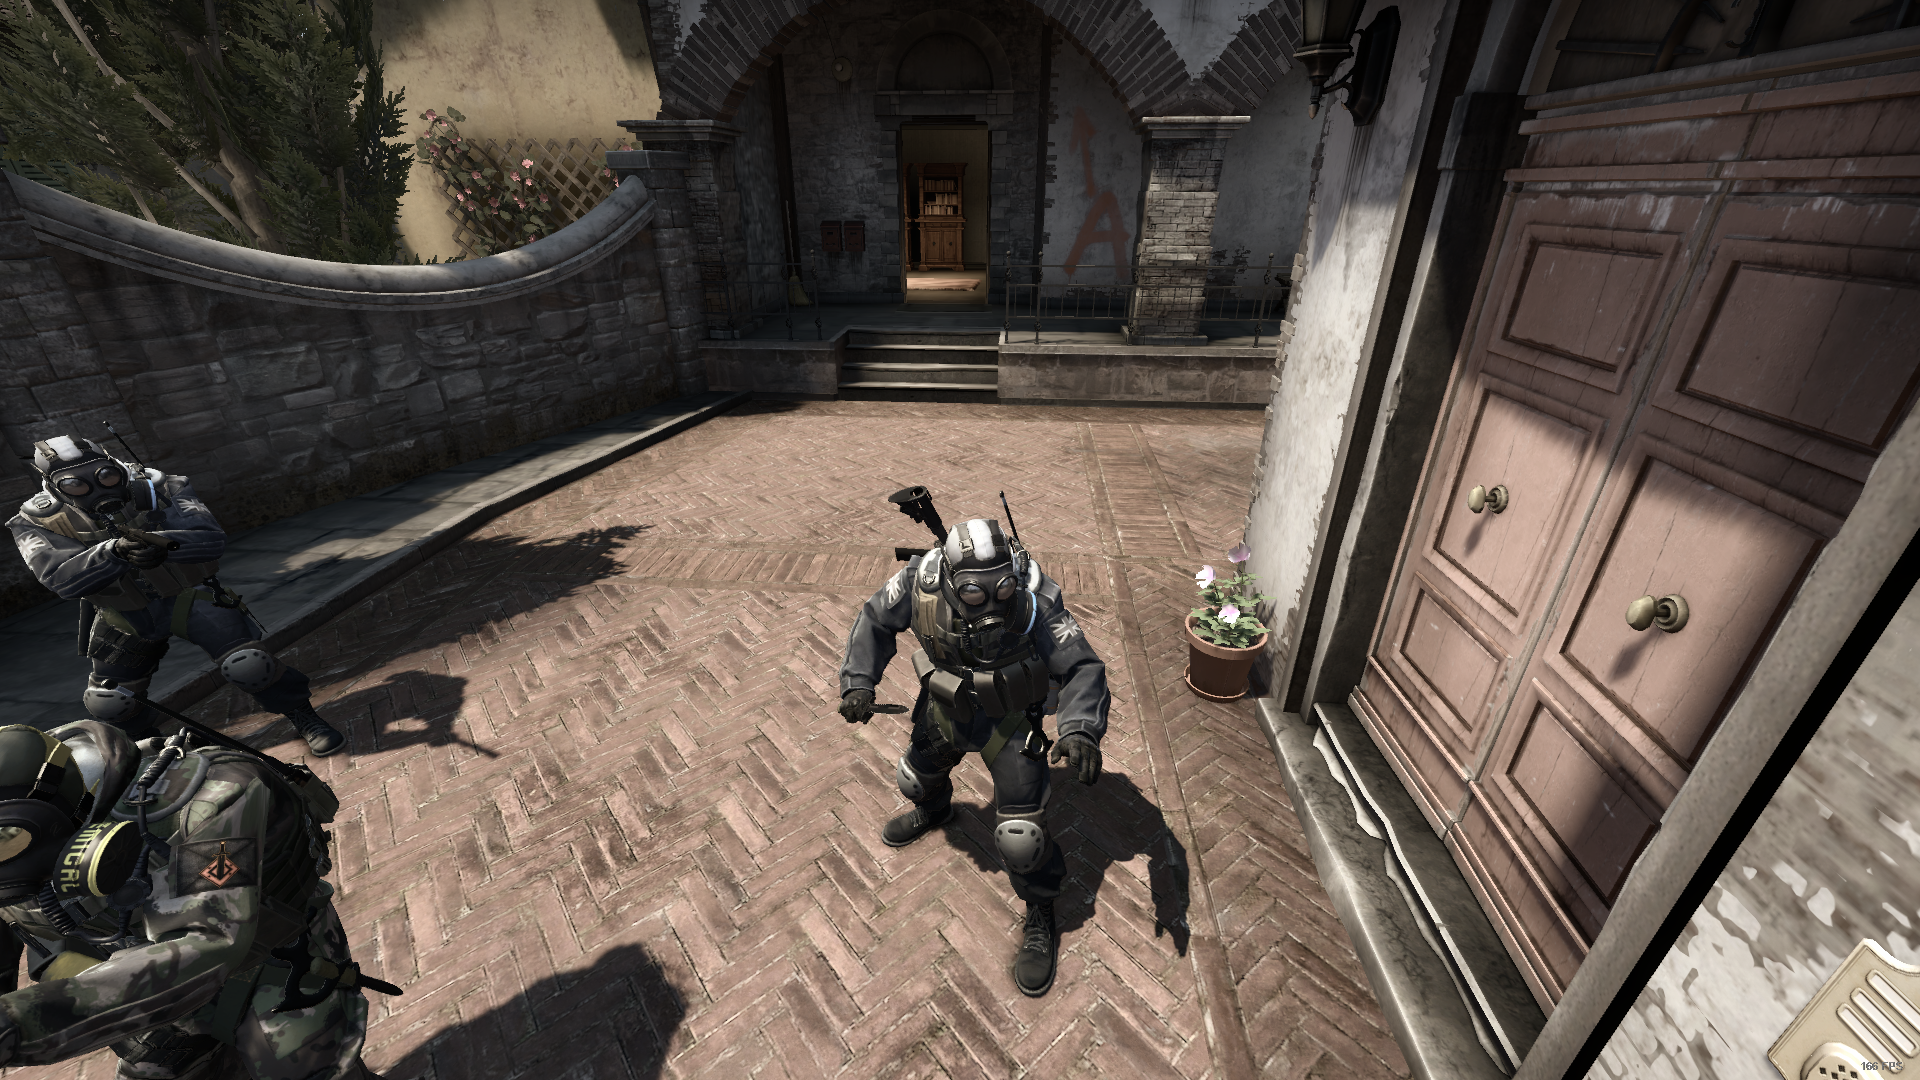ct: (814, 498, 1138, 1002), (13, 429, 349, 767)
